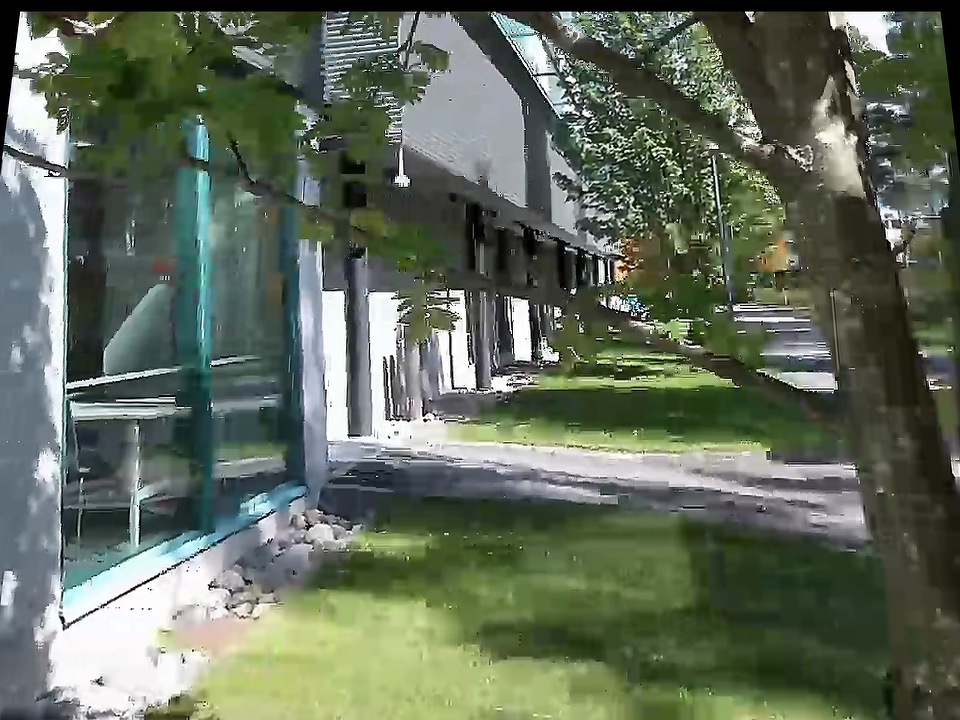branch: (297, 193, 463, 287), (698, 342, 829, 428), (588, 296, 712, 374), (446, 260, 601, 320), (253, 174, 318, 225)
trunk: (763, 147, 886, 283), (800, 271, 886, 447), (826, 443, 885, 552)
